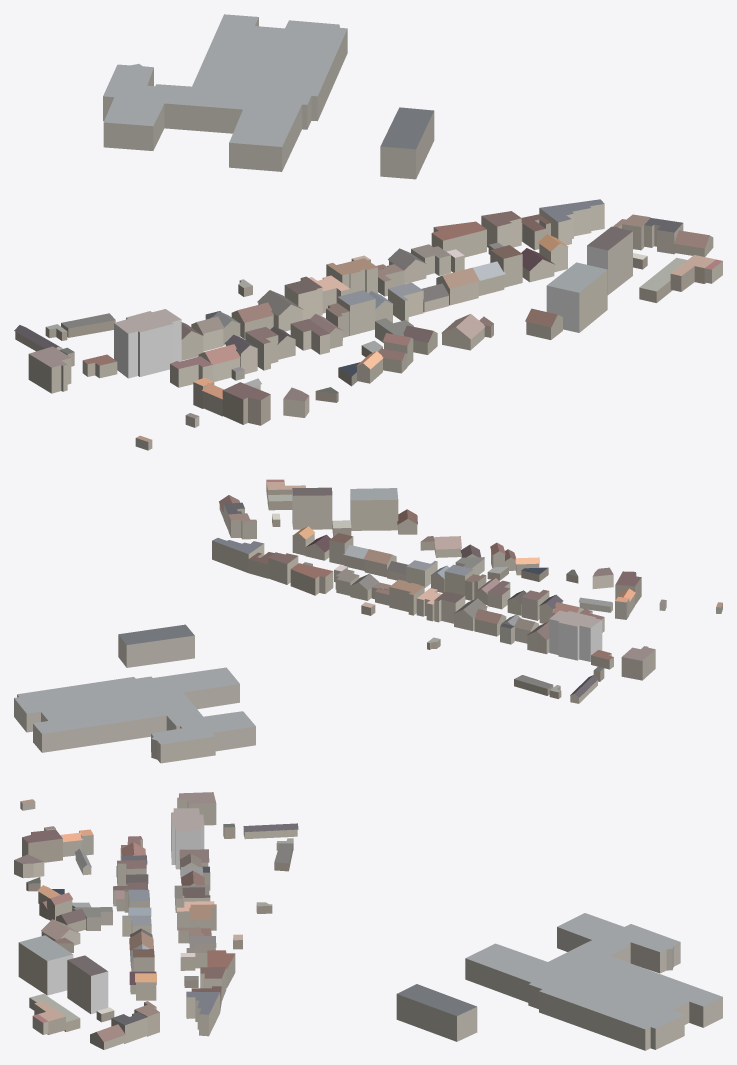
The picture shows the model from 3 angles, top to bottom: view 1: azimuth 30°, elevation 25°; view 2: azimuth 150°, elevation 25°; view 3: azimuth 270°, elevation 25°; orthographic projection. The views are drawn at different scales.
Parts seen in each view (by area): view 1: tuile; view 2: tuile; view 3: tuile.
Part boxes in pixels (left/top/right/bottom): tuile: left=14, top=14, right=722, bottom=450; tuile: left=14, top=479, right=722, bottom=763; tuile: left=14, top=792, right=722, bottom=1050.
Size of the model in its own units: 255 by 30.1 by 294.
